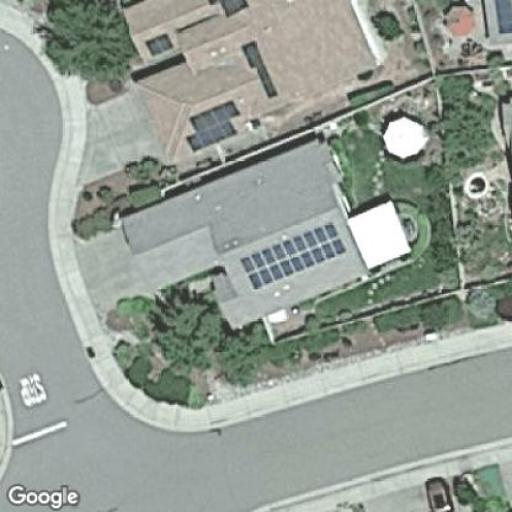solar-panel: (238, 218, 348, 290), (179, 98, 246, 151), (240, 34, 282, 106), (206, 0, 252, 18), (144, 32, 175, 58), (495, 0, 511, 33)
